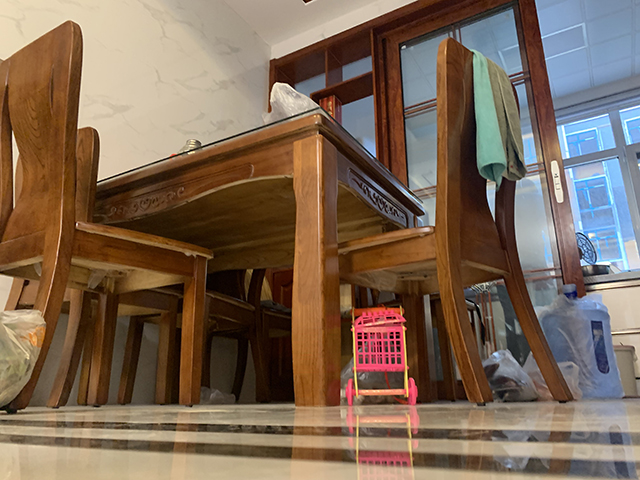stool: (338, 36, 572, 407), (1, 19, 215, 414)
table: (96, 107, 424, 408)
